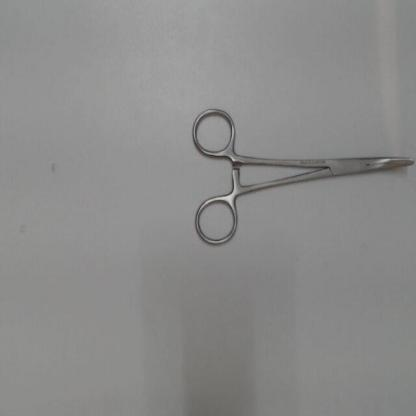Crile Artery Forceps: (189, 98, 415, 248)
